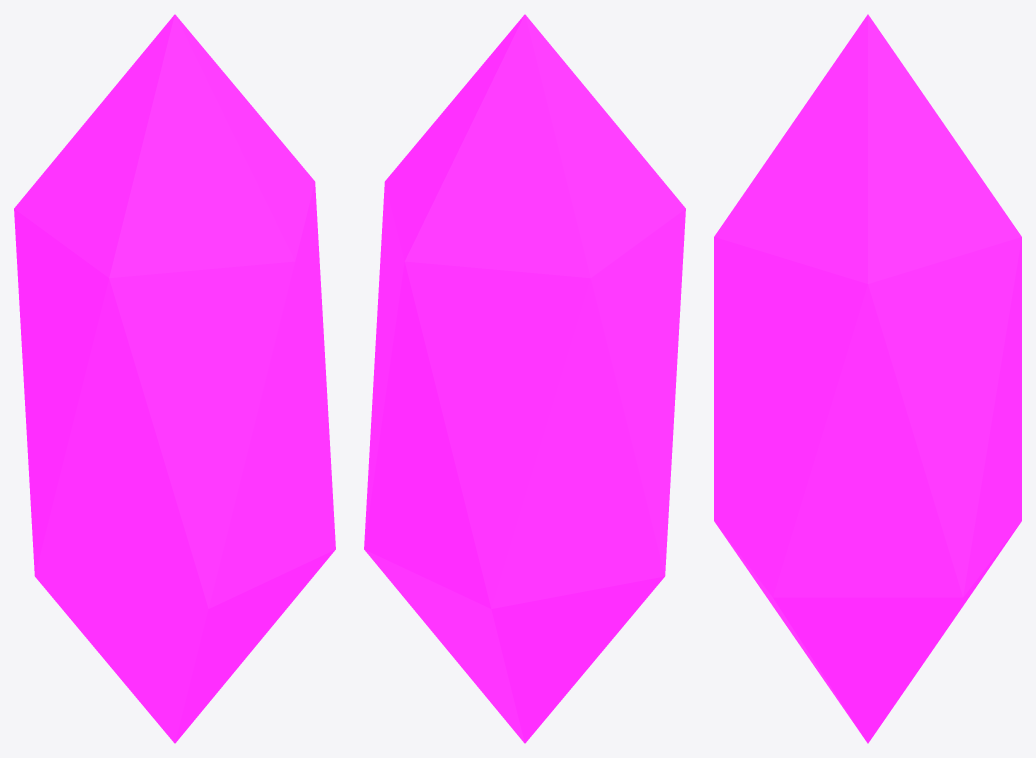
File: crystal.fbx
The picture shows the model from 3 angles, left to right: view 1: azimuth 30°, elevation 25°; view 2: azimuth 150°, elevation 25°; view 3: azimuth 270°, elevation 25°; orthographic projection.
Visible parts, largest first — view 1: Icosphere; view 2: Icosphere; view 3: Icosphere.
Part boxes in pixels (box(x1,y1,x2,y2)): Icosphere: box(14, 14, 335, 743); Icosphere: box(364, 14, 685, 743); Icosphere: box(714, 14, 1021, 743).
Size of the model in its own units: 71.67 by 178 by 68.16.
